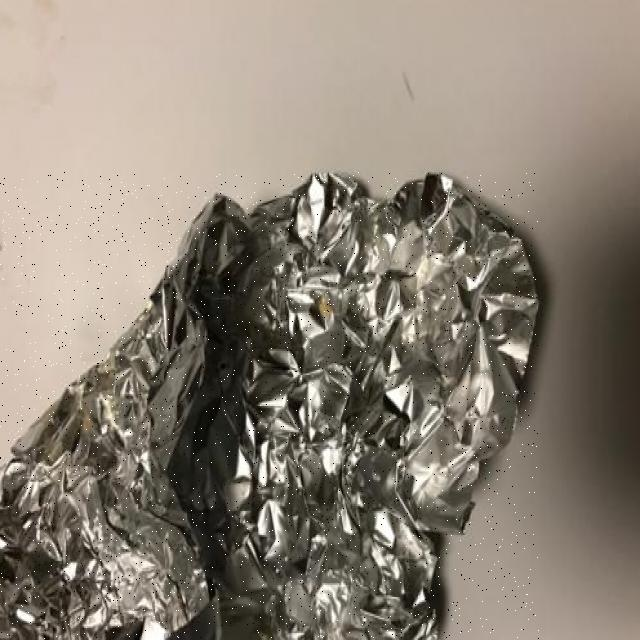metal: (0, 172, 539, 640)
